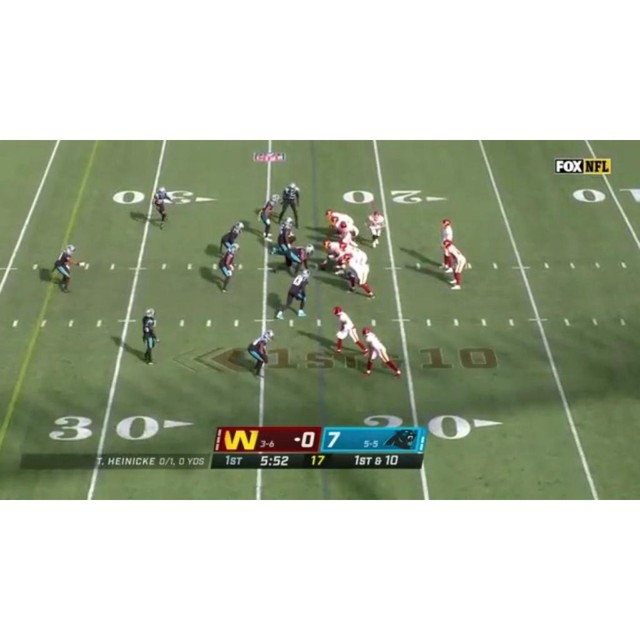american-football-player: (360, 326, 401, 378), (277, 269, 312, 320), (332, 306, 365, 355), (340, 253, 375, 299), (52, 245, 86, 292), (441, 239, 469, 291), (271, 245, 315, 276), (215, 243, 241, 294), (247, 329, 274, 378), (256, 194, 280, 241), (278, 183, 302, 228), (140, 309, 159, 365), (270, 217, 296, 257), (151, 186, 173, 230), (318, 238, 345, 273), (218, 221, 245, 255), (438, 218, 455, 269), (366, 210, 386, 248)
